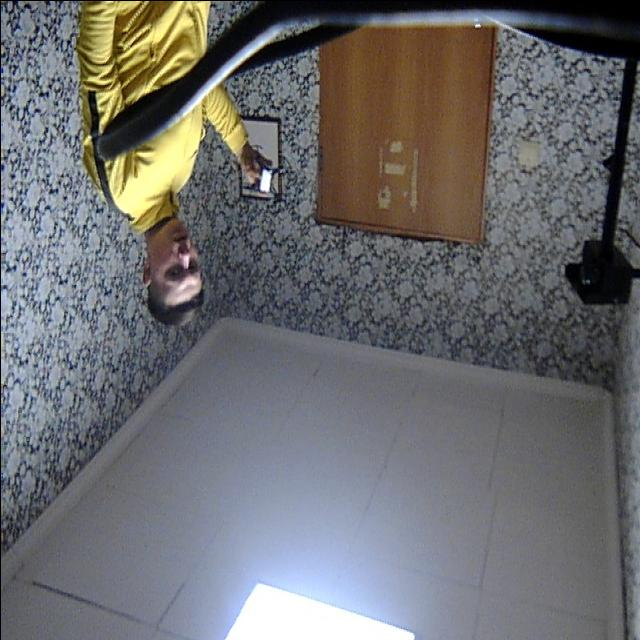drone: (230, 148, 305, 225)
